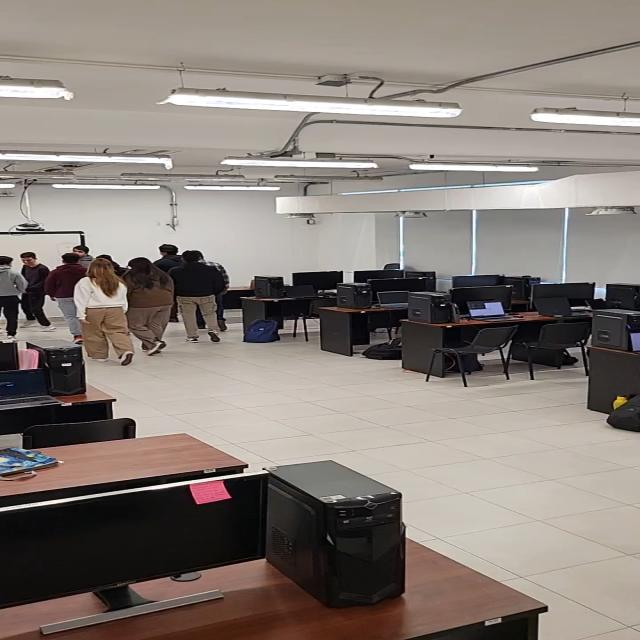Persona: (173, 253, 224, 336), (82, 260, 130, 344), (124, 260, 174, 338), (16, 253, 54, 330), (49, 253, 77, 329), (0, 255, 24, 338)
